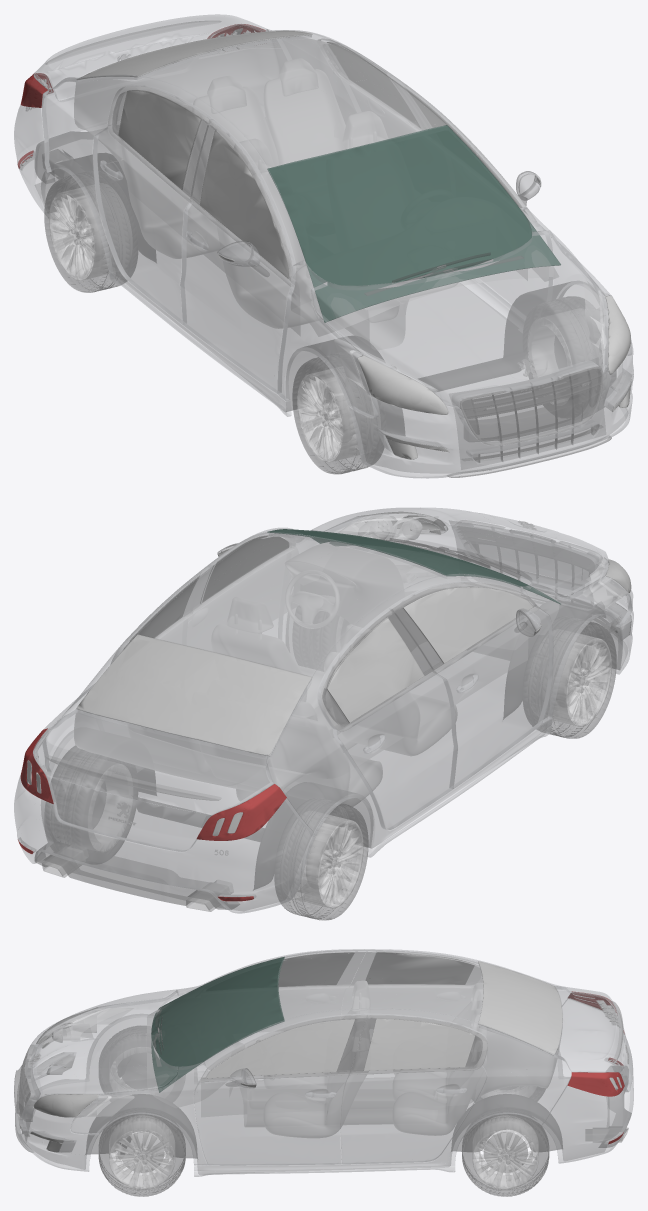
Rendered from peugeot-508.glb.
3 renders of one model, top to bottom at view 1: azimuth 30°, elevation 25°; view 2: azimuth 150°, elevation 25°; view 3: azimuth 270°, elevation 25°, orthographic. The views are drawn at different scales.
Visible parts, largest first — view 1: 508_saloon_2011_0; view 2: 508_saloon_2011_0; view 3: 508_saloon_2011_0.
Part boxes in pixels (left/top/right/bottom): 508_saloon_2011_0: left=14, top=14, right=633, bottom=478; 508_saloon_2011_0: left=14, top=507, right=633, bottom=920; 508_saloon_2011_0: left=14, top=949, right=633, bottom=1196.
Bounding box in the file's own units: 2.06 × 1.48 × 4.75.
